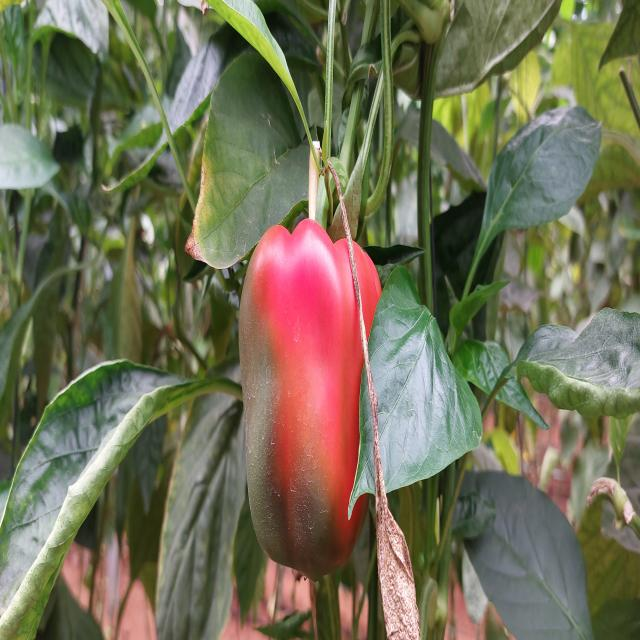Red-Ready-to-Harvest: (232, 208, 386, 552)
